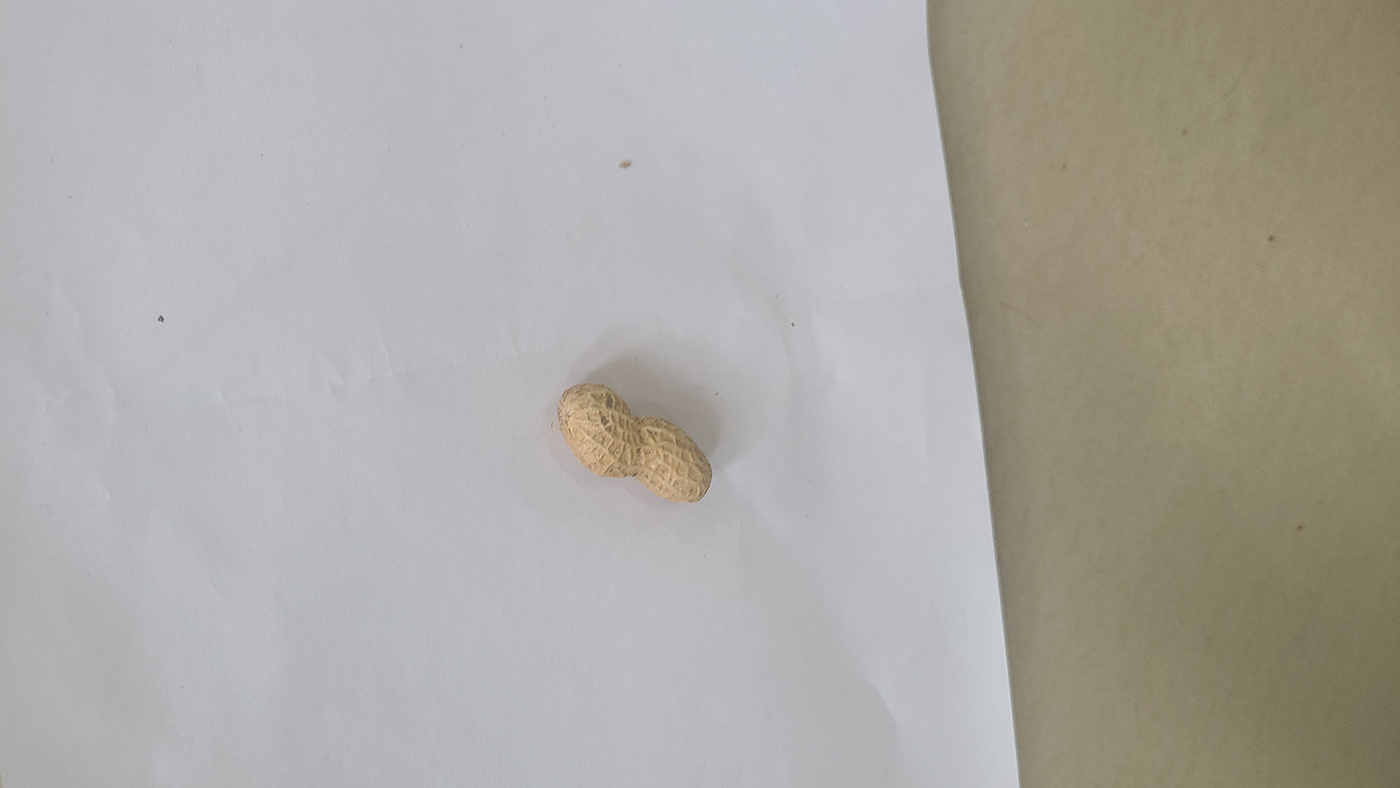h: (557, 382, 714, 504)
